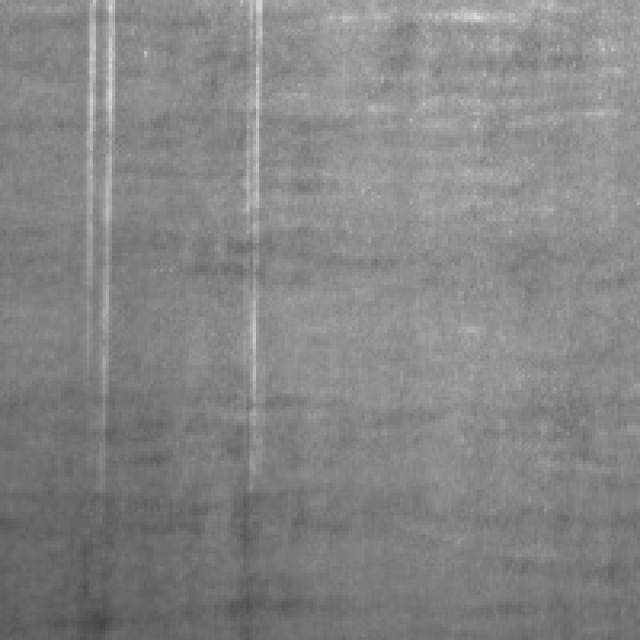scratches: (70, 0, 115, 406), (233, 0, 266, 448)
